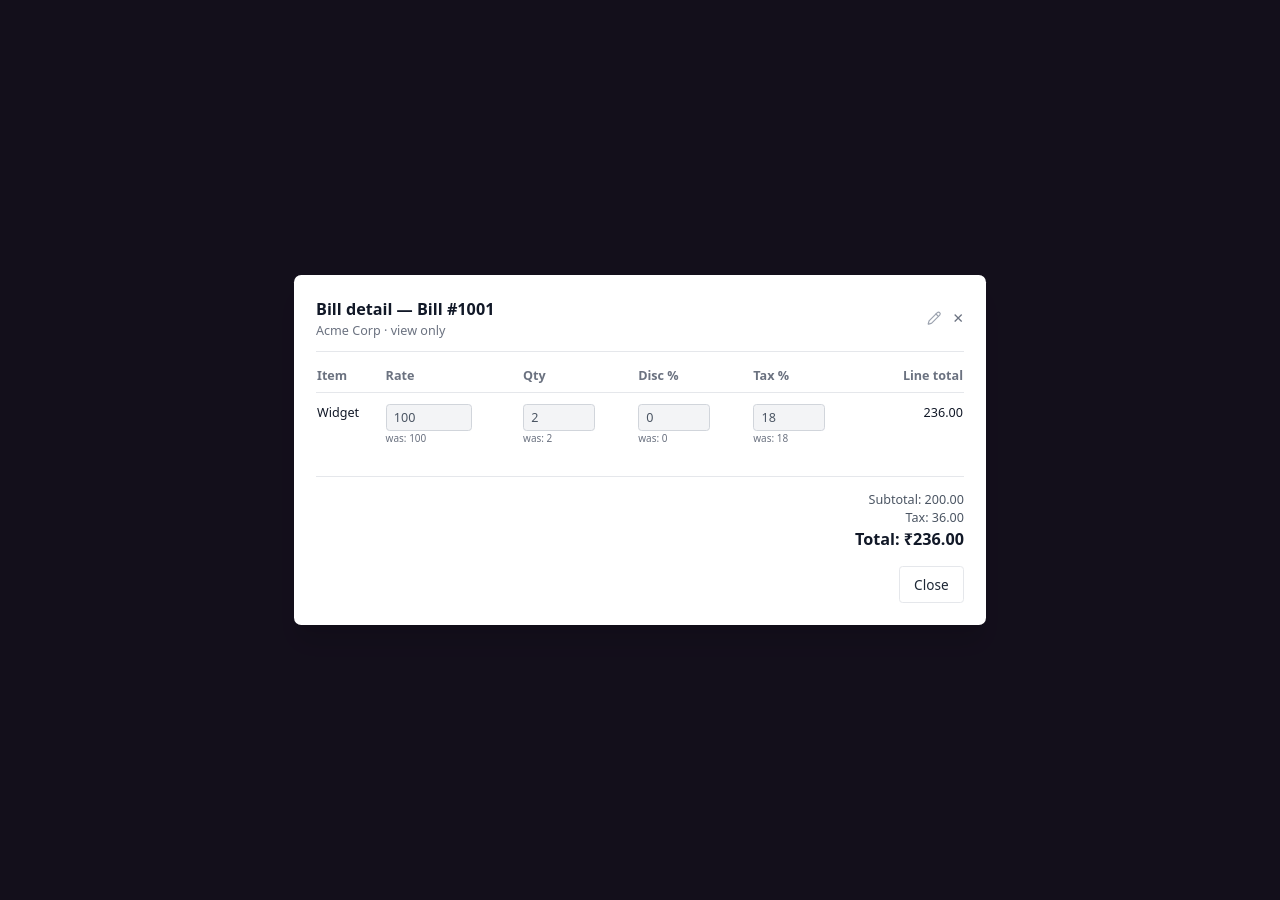
Test: EditBillPriceDialog › recomputes total when rate changes in correction mode
Click the button named "correct prices" at point(935, 318), box [922,306,947,331]
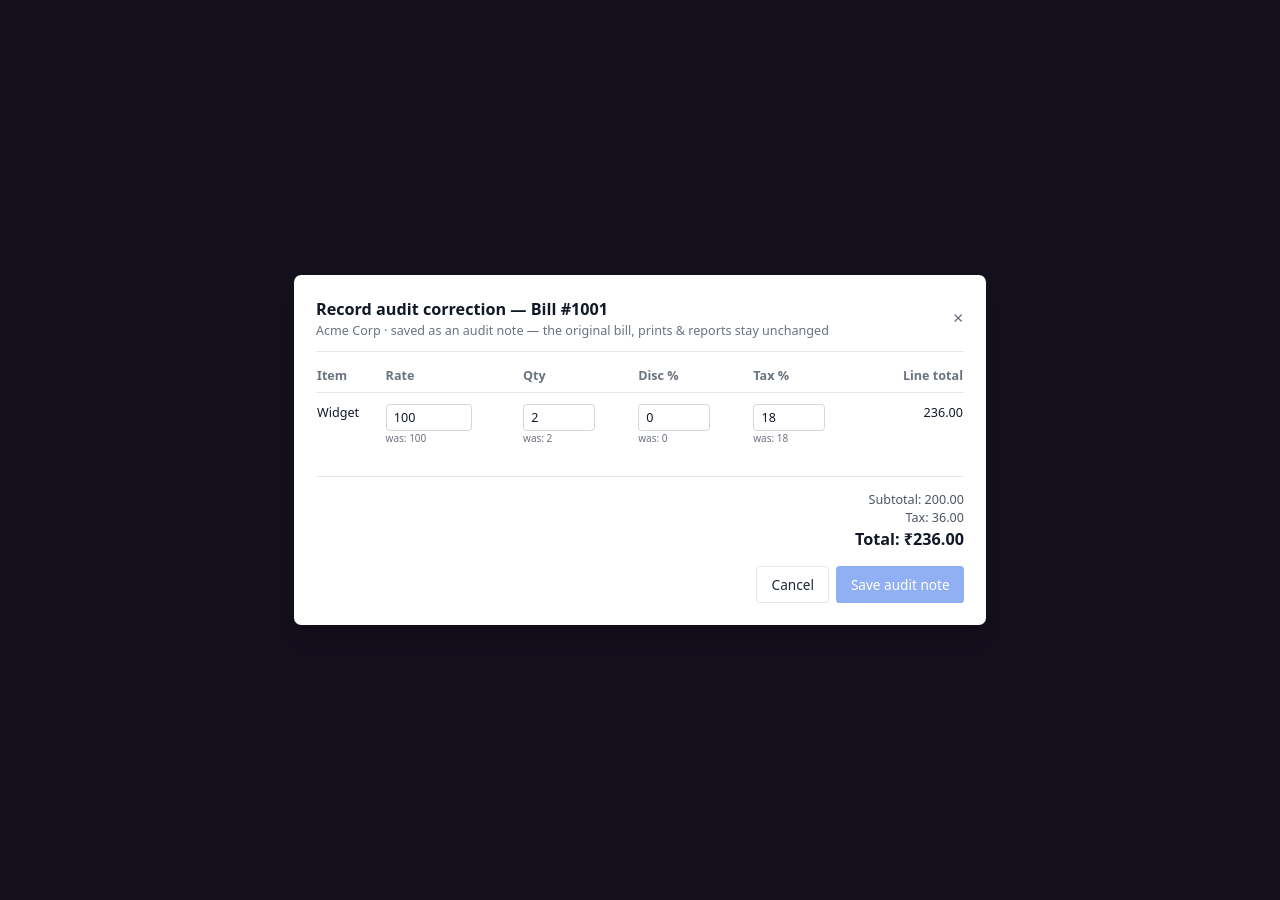
Replace the text in the number field named "Rate for Widget" with "150" at point(429, 418), box [386,404,472,431]
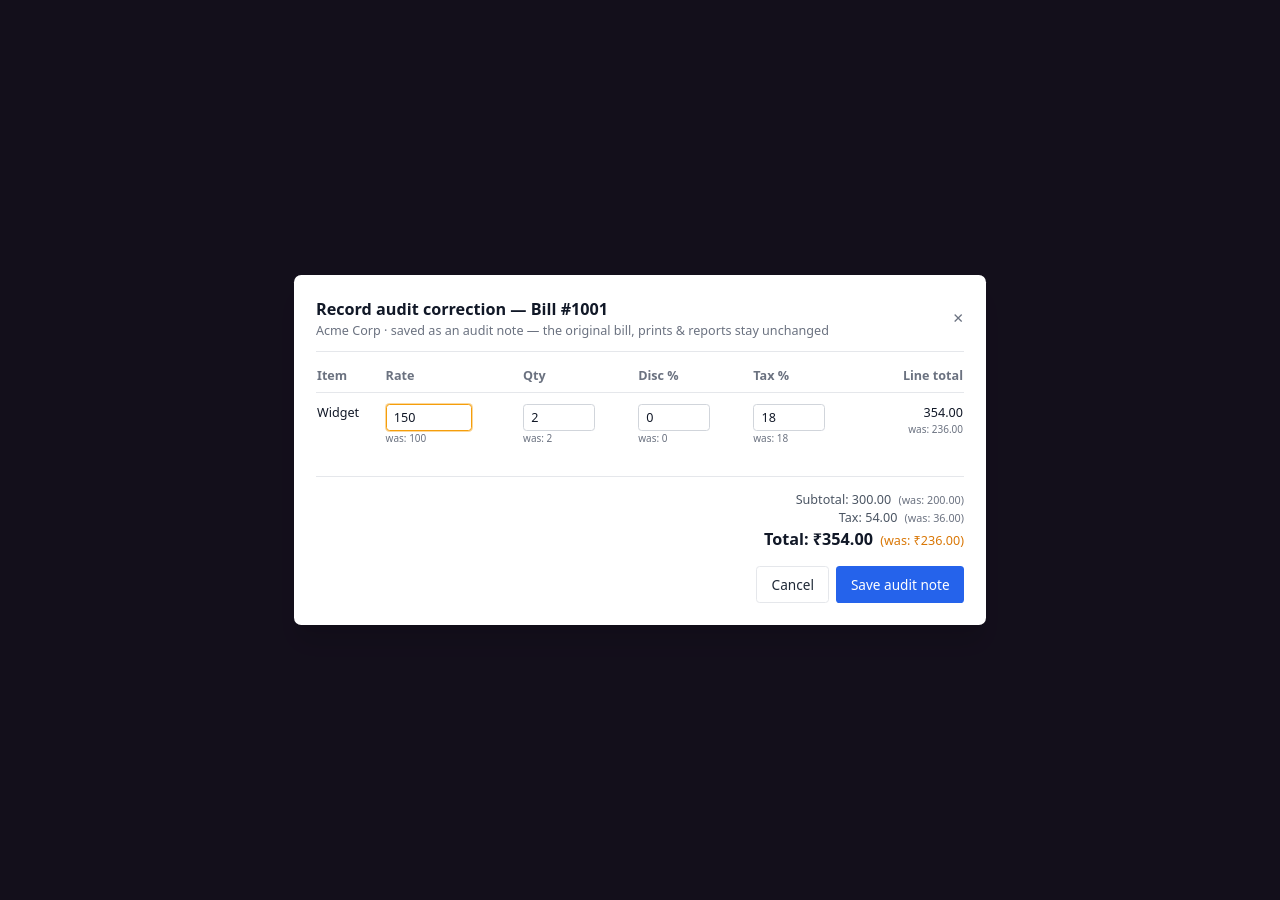
Check: the element with test id "bill-total" shows "354", box [822,528,873,550]
